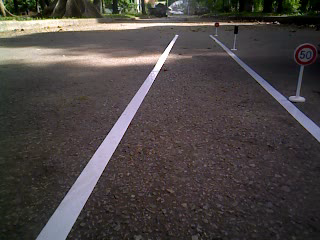limit 50: (292, 40, 320, 67)
